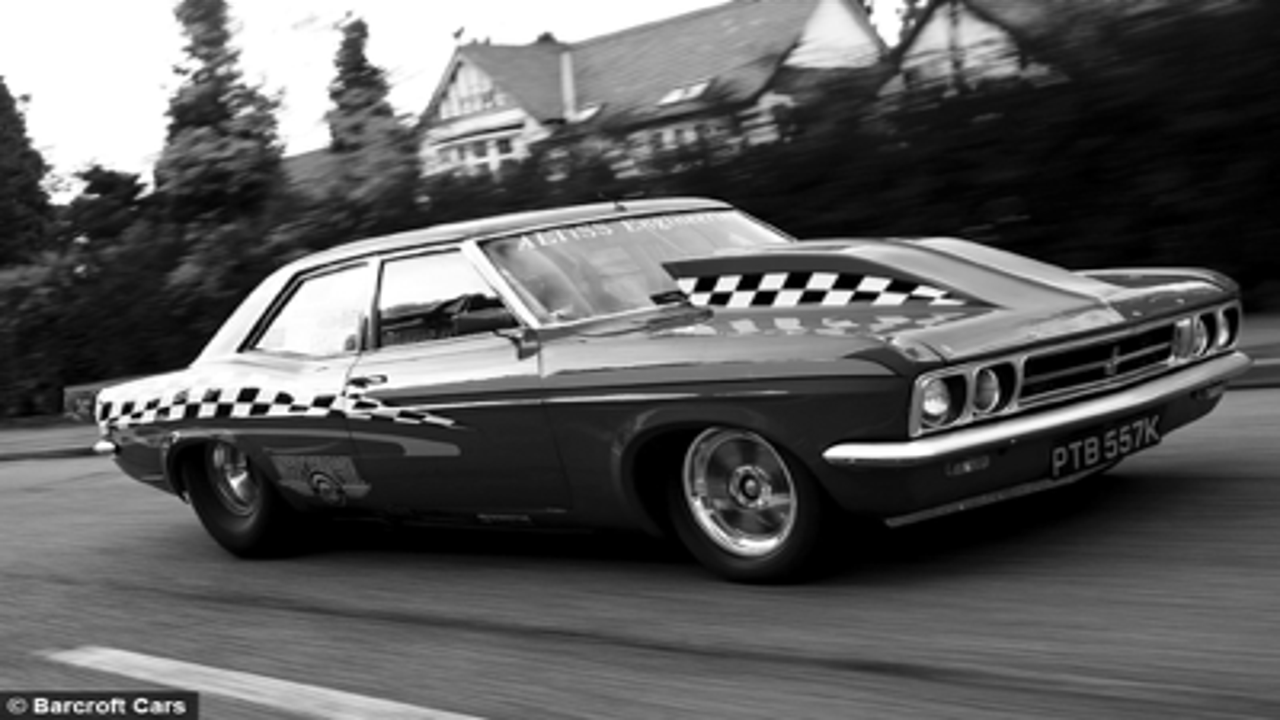license: (1043, 398, 1174, 486)
